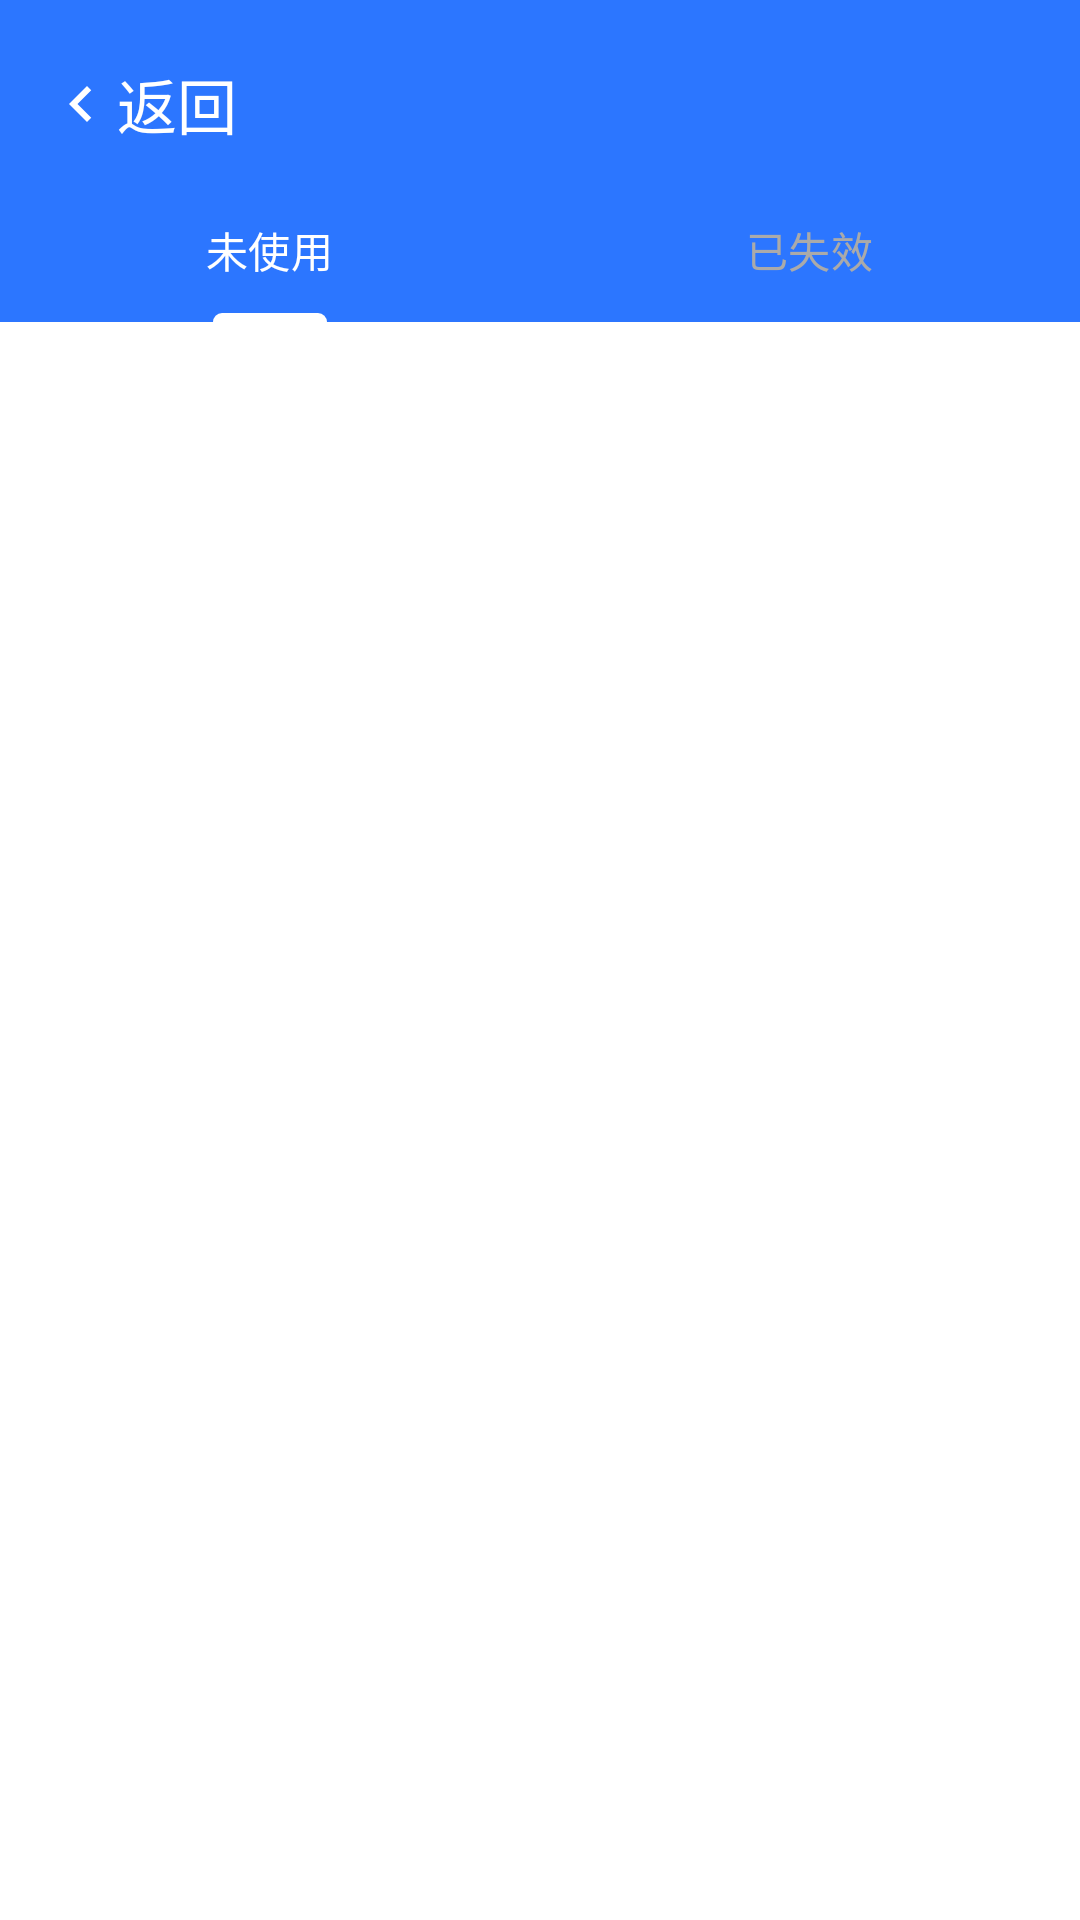

Point at icon controls on the screen. Image size 1080w x 1920h, points as point (x, y).
chevron left: point (80, 104)
